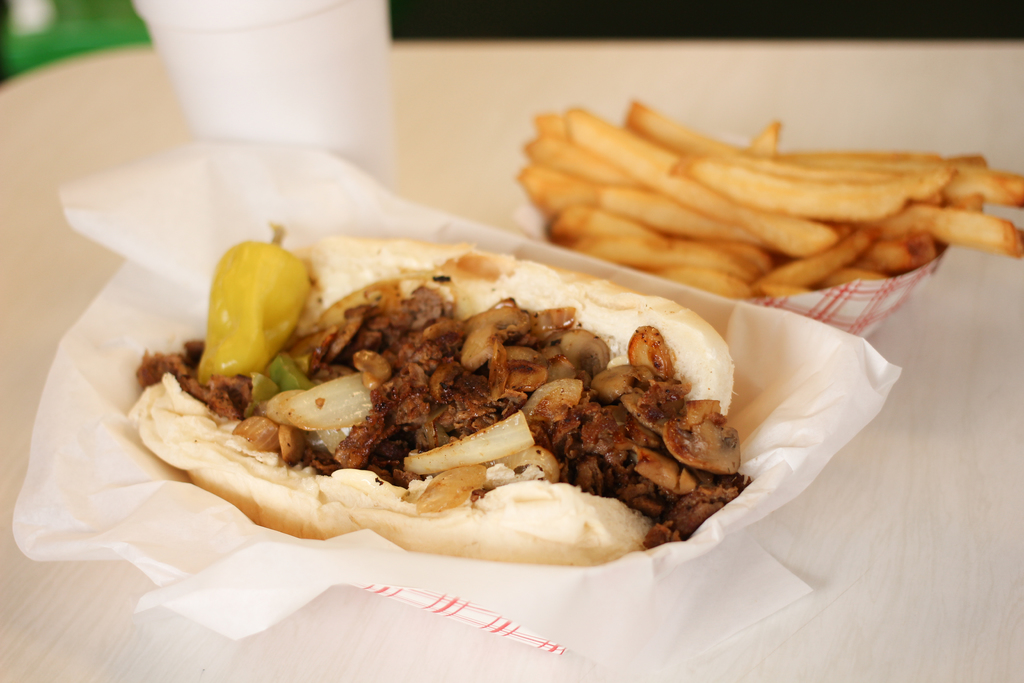French fries: (512, 90, 1023, 301)
